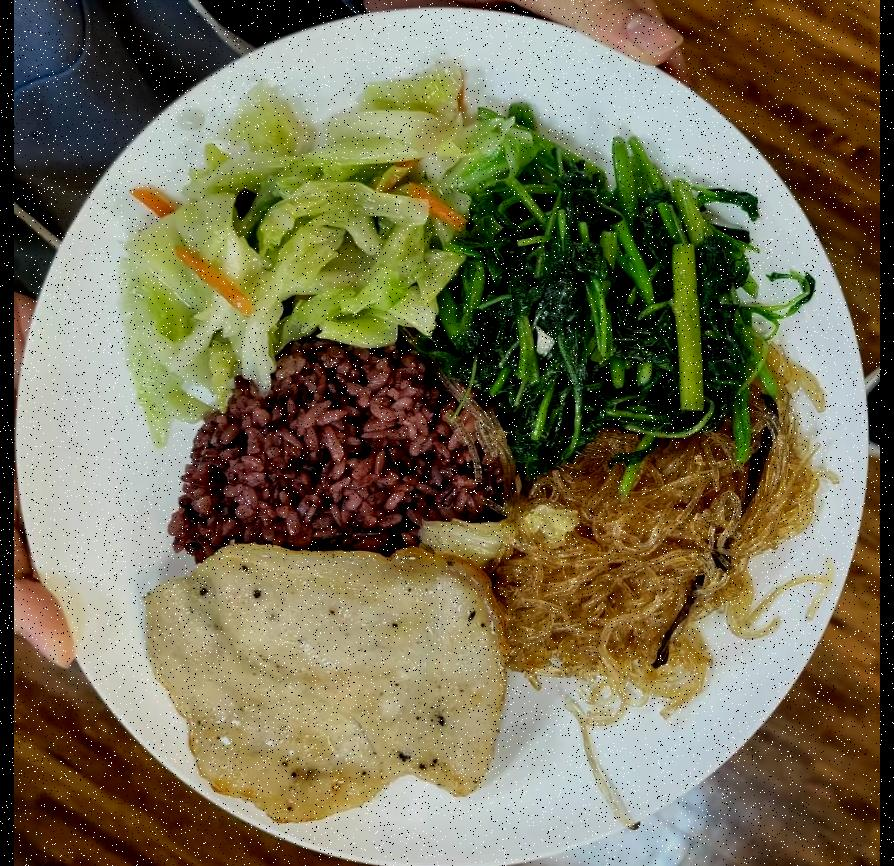grilled chicken steak: (128, 542, 512, 827)
plate: (24, 6, 880, 866)
purple rice: (164, 340, 512, 562)
side dish: (107, 67, 468, 418), (431, 134, 758, 444), (496, 396, 814, 702)
